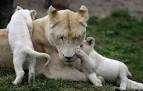lion: (4, 9, 88, 90)
